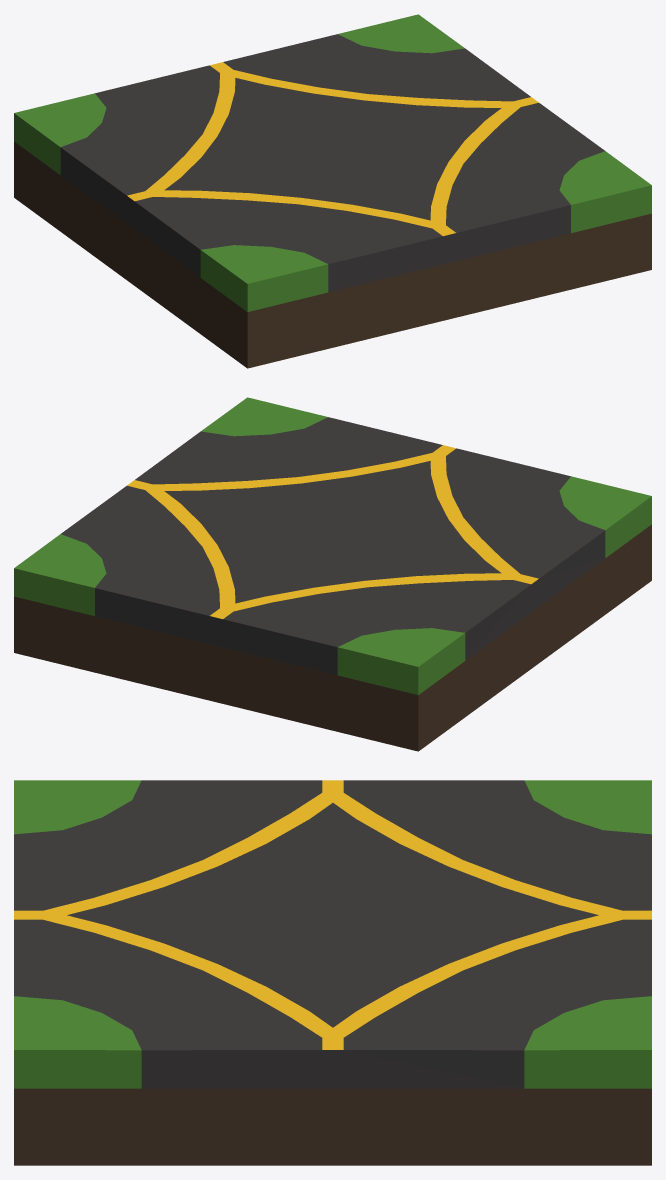
The model's file is tiles-tile-runway-intersection.glb.
The picture shows the model from 3 angles, top to bottom: view 1: azimuth 30°, elevation 25°; view 2: azimuth 150°, elevation 25°; view 3: azimuth 270°, elevation 25°; orthographic projection. The views are drawn at different scales.
Visible parts, largest first — view 1: tile-runway-intersection; view 2: tile-runway-intersection; view 3: tile-runway-intersection.
Boxes of the visible parts, left/top/right/bottom form: tile-runway-intersection: left=14, top=14, right=651, bottom=368; tile-runway-intersection: left=14, top=397, right=651, bottom=751; tile-runway-intersection: left=14, top=780, right=651, bottom=1165.
Size of the model in its own units: 30.03 by 6 by 30.
